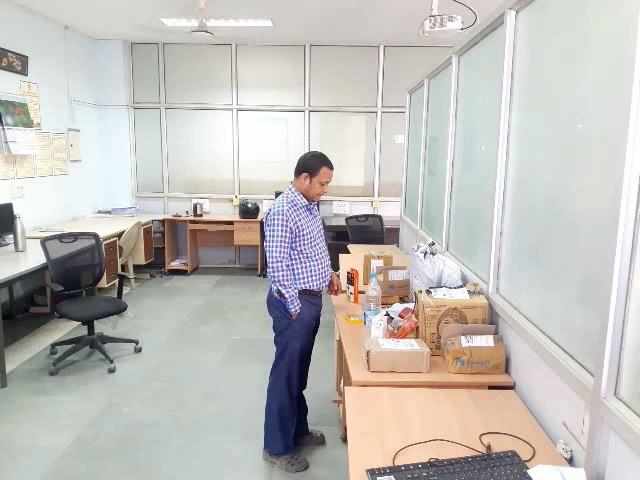shoplifting: (239, 262, 352, 393)
